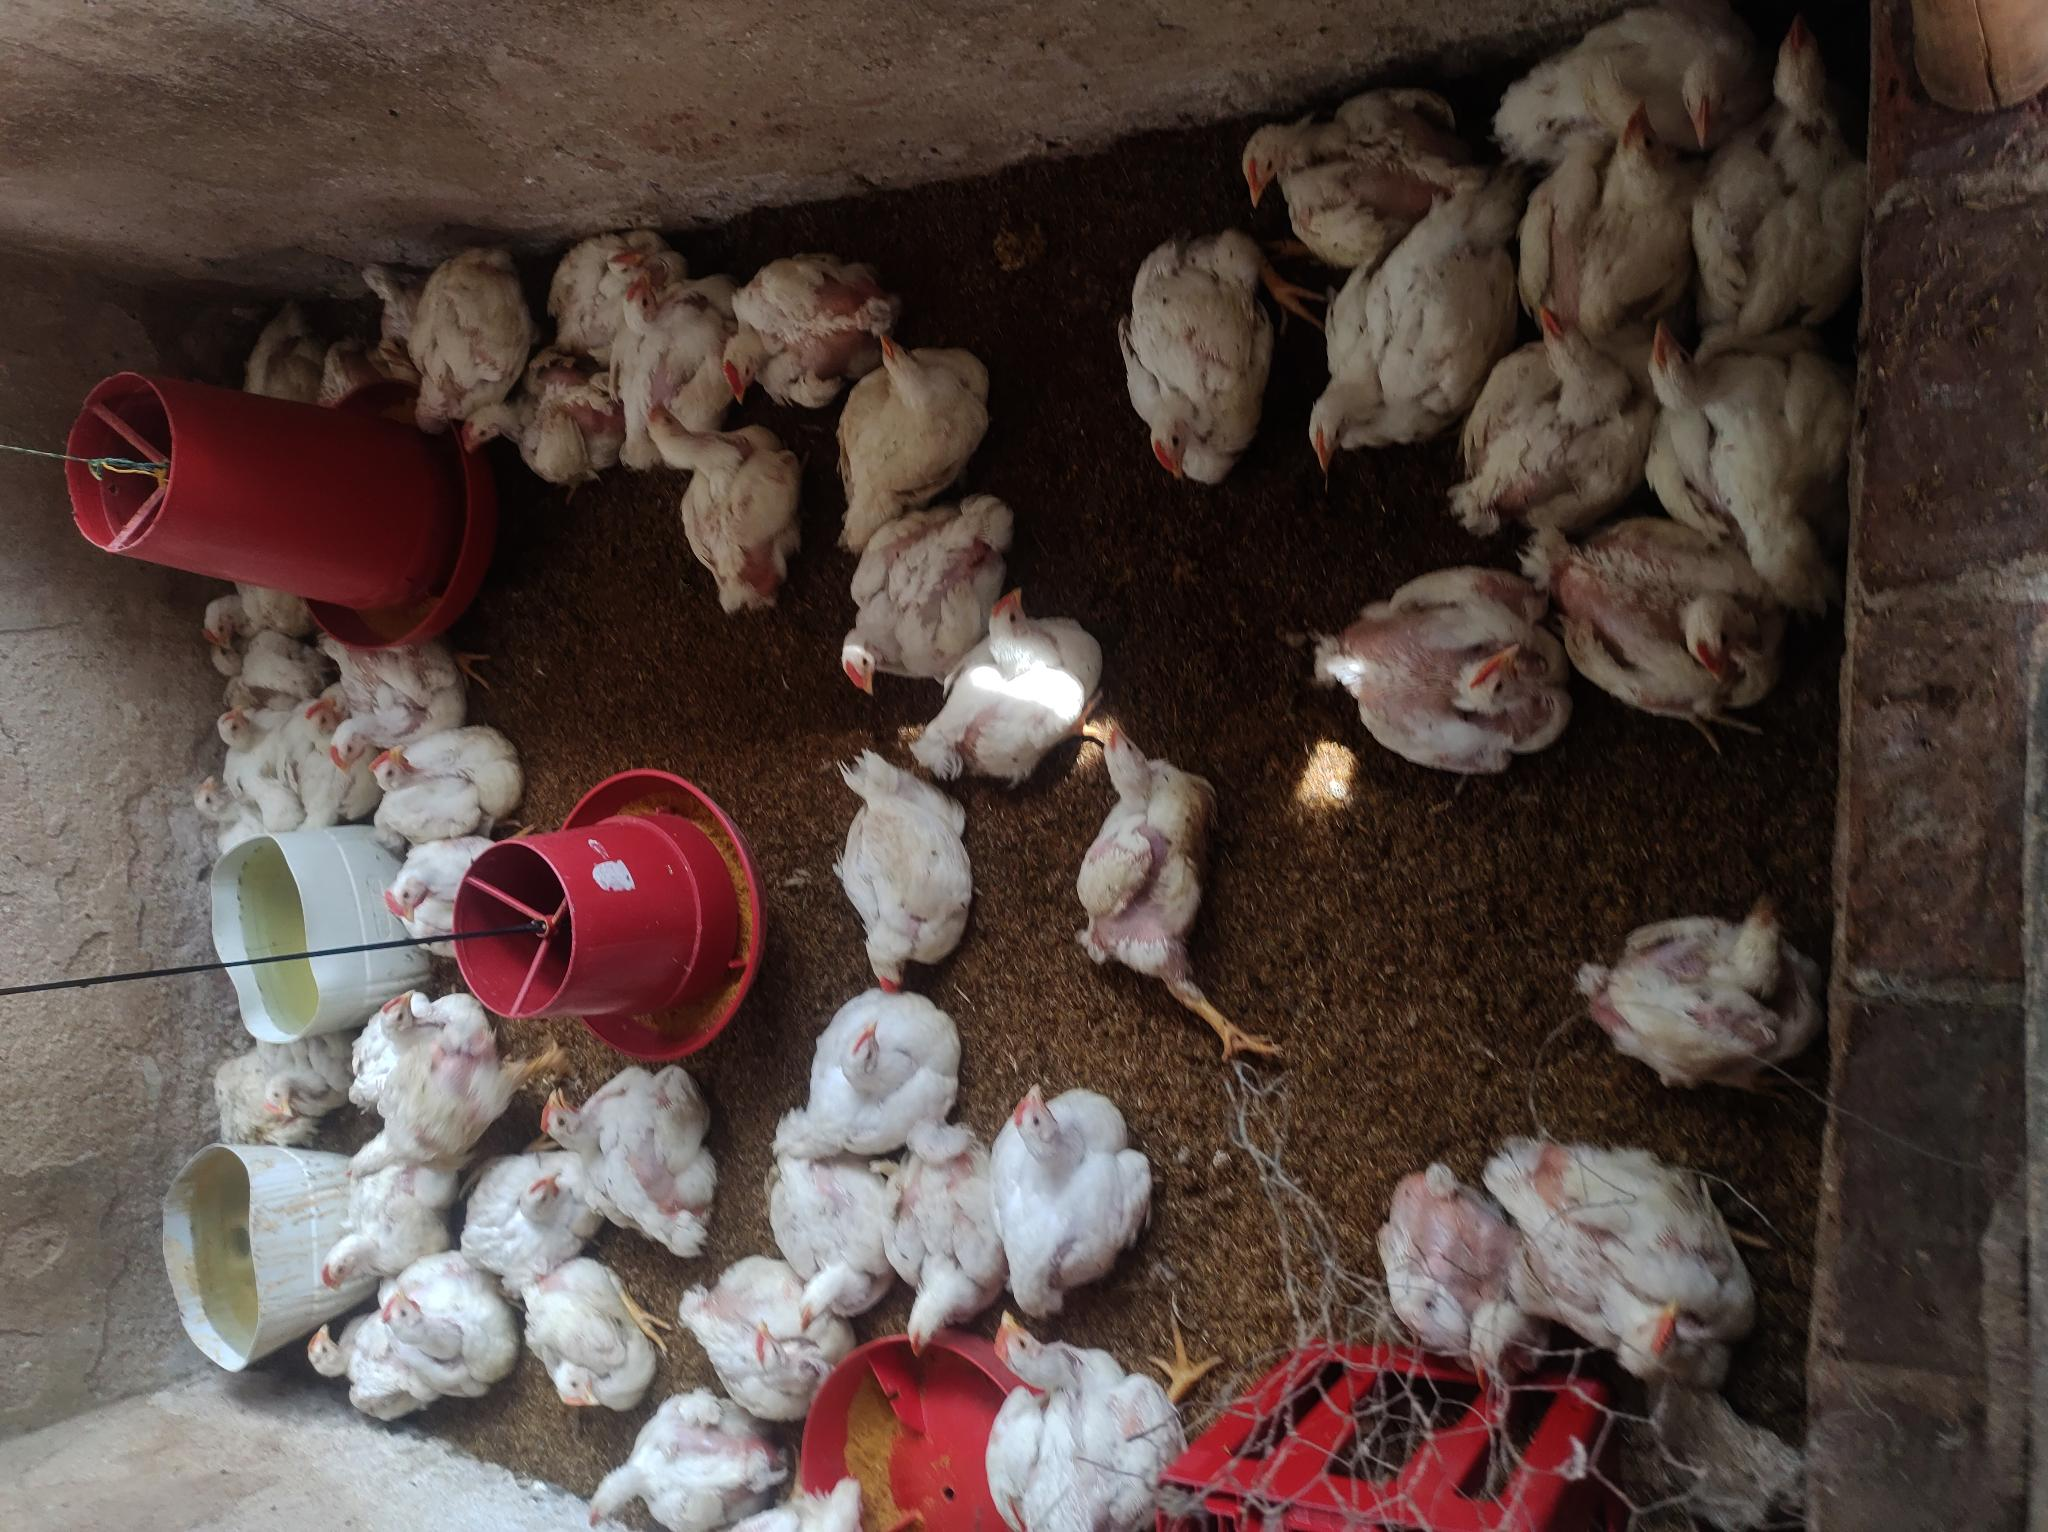Pollos: (1282, 198, 1551, 491), (1495, 1118, 1783, 1389), (1063, 719, 1273, 1062), (1635, 309, 1847, 632), (1347, 563, 1572, 840), (1594, 883, 1853, 1115), (1705, 19, 1881, 359), (1548, 484, 1760, 760), (1359, 1159, 1565, 1424), (988, 1297, 1203, 1532), (1464, 0, 1778, 161), (1229, 64, 1461, 282), (1097, 229, 1279, 484), (843, 476, 1034, 716), (796, 760, 1001, 983), (1504, 105, 1704, 333), (1454, 319, 1646, 550), (890, 586, 1112, 785), (970, 1080, 1165, 1303), (537, 1052, 718, 1254), (822, 290, 994, 497), (732, 232, 903, 438), (343, 982, 537, 1160), (639, 410, 796, 623), (684, 1225, 851, 1419), (756, 985, 957, 1146), (874, 1135, 1002, 1352), (574, 1386, 769, 1527), (410, 232, 533, 439), (449, 360, 631, 491), (766, 1151, 891, 1336), (381, 1252, 528, 1410), (330, 631, 487, 771), (521, 1258, 656, 1419), (459, 1133, 608, 1278), (317, 1159, 470, 1292), (190, 1030, 328, 1167), (368, 715, 518, 835), (544, 224, 690, 330), (393, 840, 505, 969), (293, 1307, 409, 1431), (164, 760, 298, 858), (611, 301, 726, 414), (235, 282, 335, 407), (187, 562, 323, 636), (360, 249, 438, 375), (730, 1468, 878, 1532), (196, 702, 290, 776), (199, 624, 245, 686), (298, 689, 336, 732)
